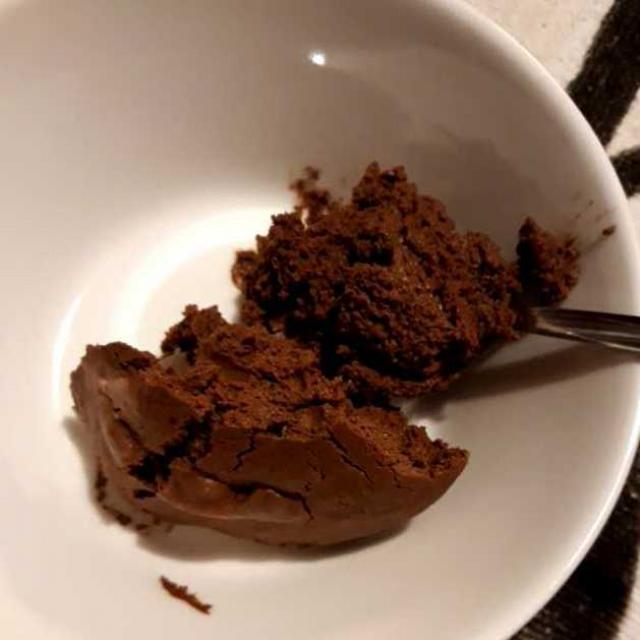chocolate-mousse: (84, 169, 571, 548)
